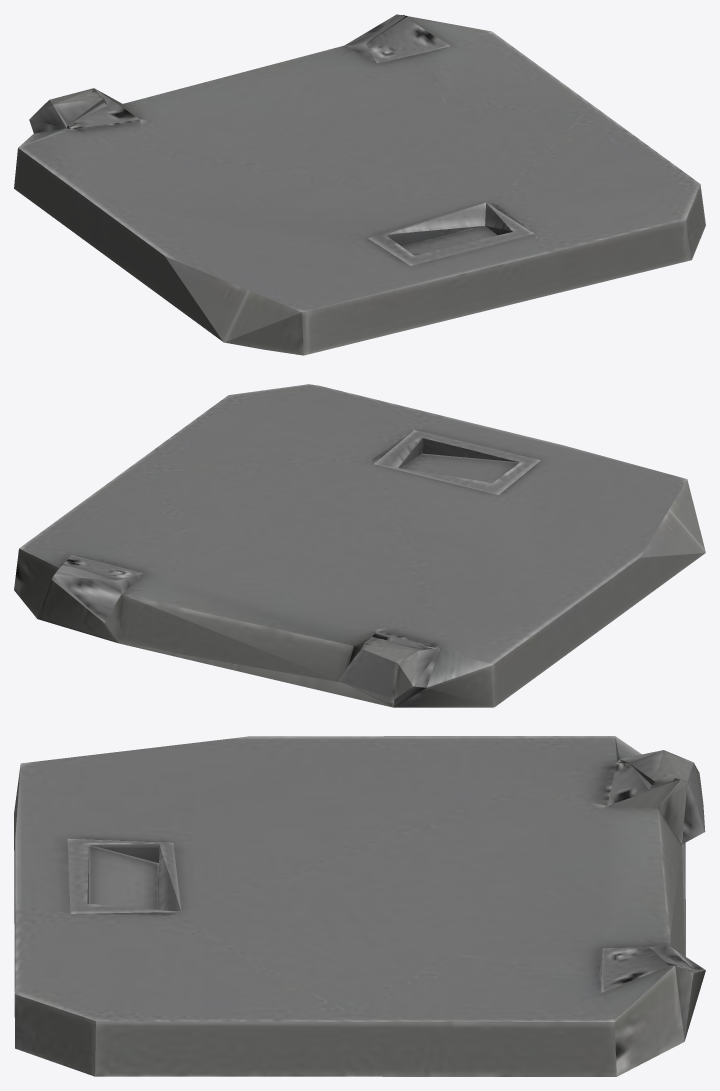
The model's file is imperial_armoured_bunker__roof_hatch_lod2.glb.
3 renders of one model, top to bottom at view 1: azimuth 30°, elevation 25°; view 2: azimuth 150°, elevation 25°; view 3: azimuth 270°, elevation 25°, orthographic. The views are drawn at different scales.
Visible parts, largest first — view 1: mesh_node; view 2: mesh_node; view 3: mesh_node.
Boxes of the visible parts, x1,y1,x2,y2 form: mesh_node: (14, 14, 705, 355); mesh_node: (14, 384, 705, 707); mesh_node: (14, 736, 705, 1076).
Bounding box in the file's own units: 1.95 × 0.2268 × 1.95.
Materials: 1 (1 with a texture image).
